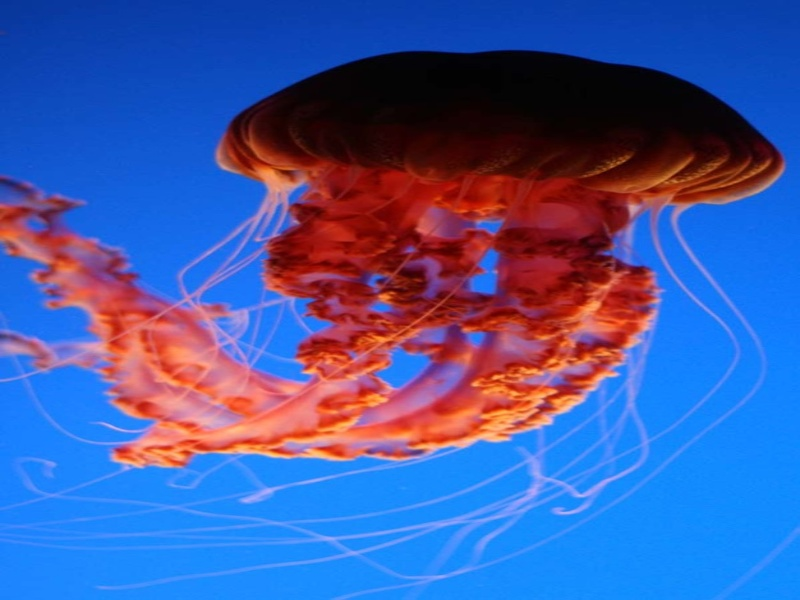Jellyfish: (100, 67, 800, 530)
